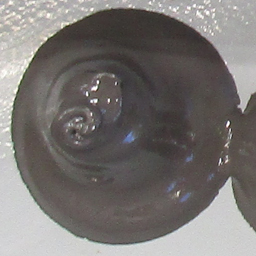perfect: (7, 4, 236, 246)
